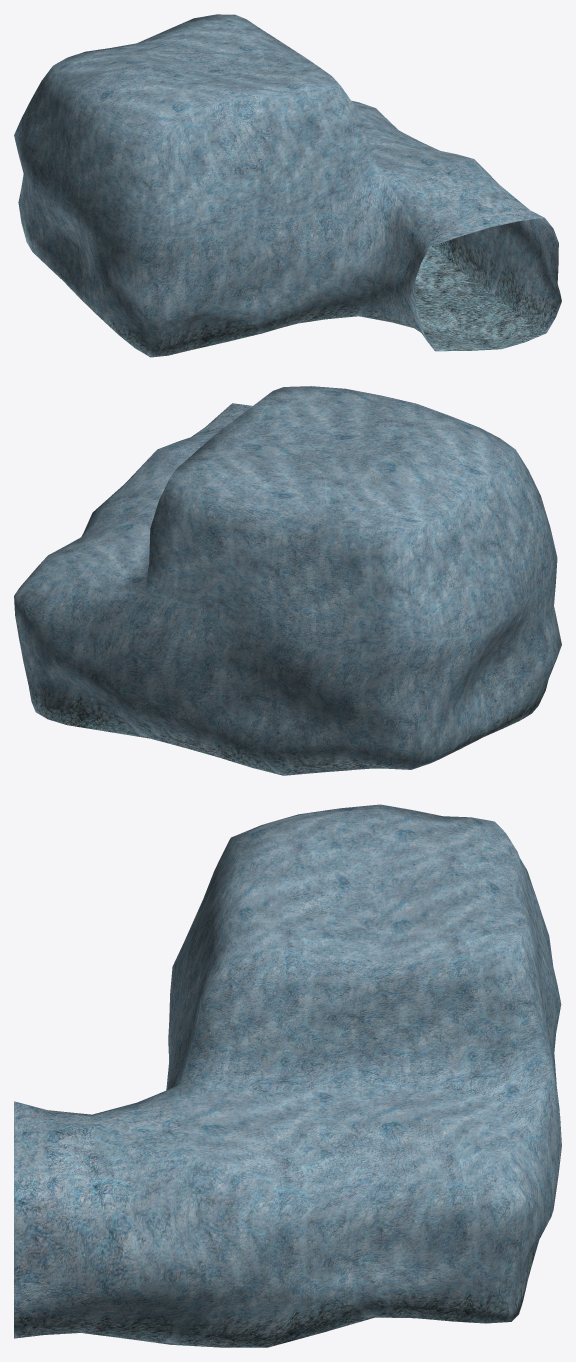
The model's file is thm_all_cave_s02_ice_r11_mesh_r11.fbx.
3 renders of one model, top to bottom at view 1: azimuth 30°, elevation 25°; view 2: azimuth 150°, elevation 25°; view 3: azimuth 270°, elevation 25°, orthographic. The views are drawn at different scales.
Visible parts, largest first — view 1: mesh_node; view 2: mesh_node; view 3: mesh_node.
Boxes of the visible parts, x1,y1,x2,y2 form: mesh_node: [14, 14, 561, 357]; mesh_node: [14, 386, 561, 775]; mesh_node: [14, 804, 561, 1347].
Size of the model in its own units: 32.88 by 20.28 by 28.87.
